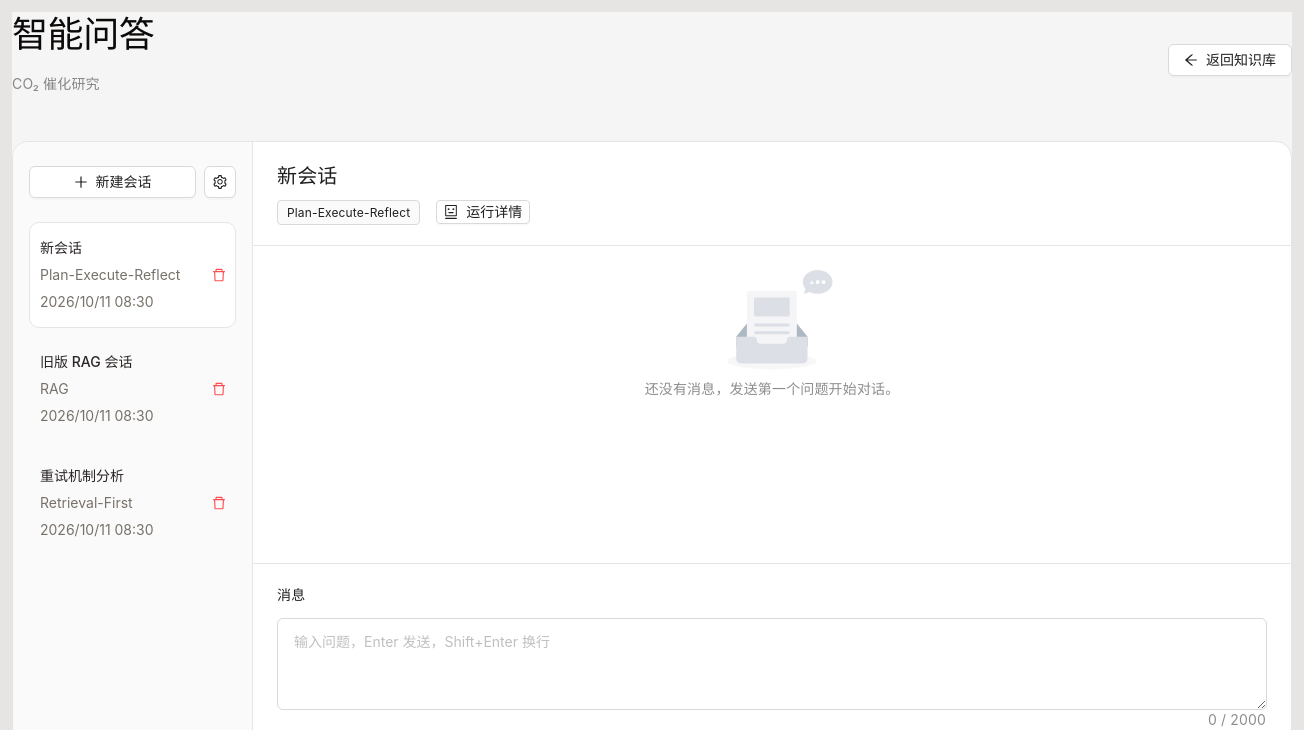
Scenario: ChatPage (MSW integration tests) › honors an initial FAILED execution response instead of assuming it is PENDING
The width and height of the screenshot is (1304, 730).
Type "问题" into the text box labelled "消息" at (772, 664), box x1=278 y1=619 x2=1266 y2=709
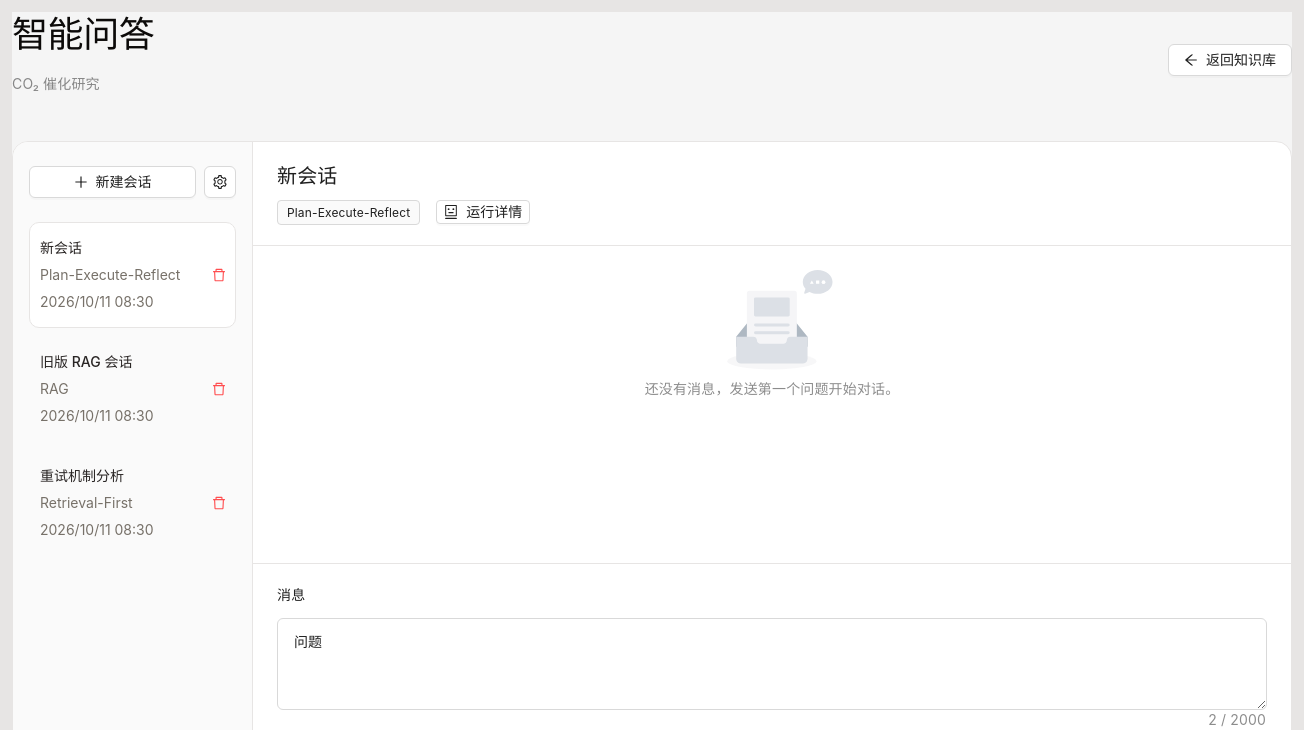
Press Enter in the text box labelled "消息", box x1=278 y1=619 x2=1266 y2=709
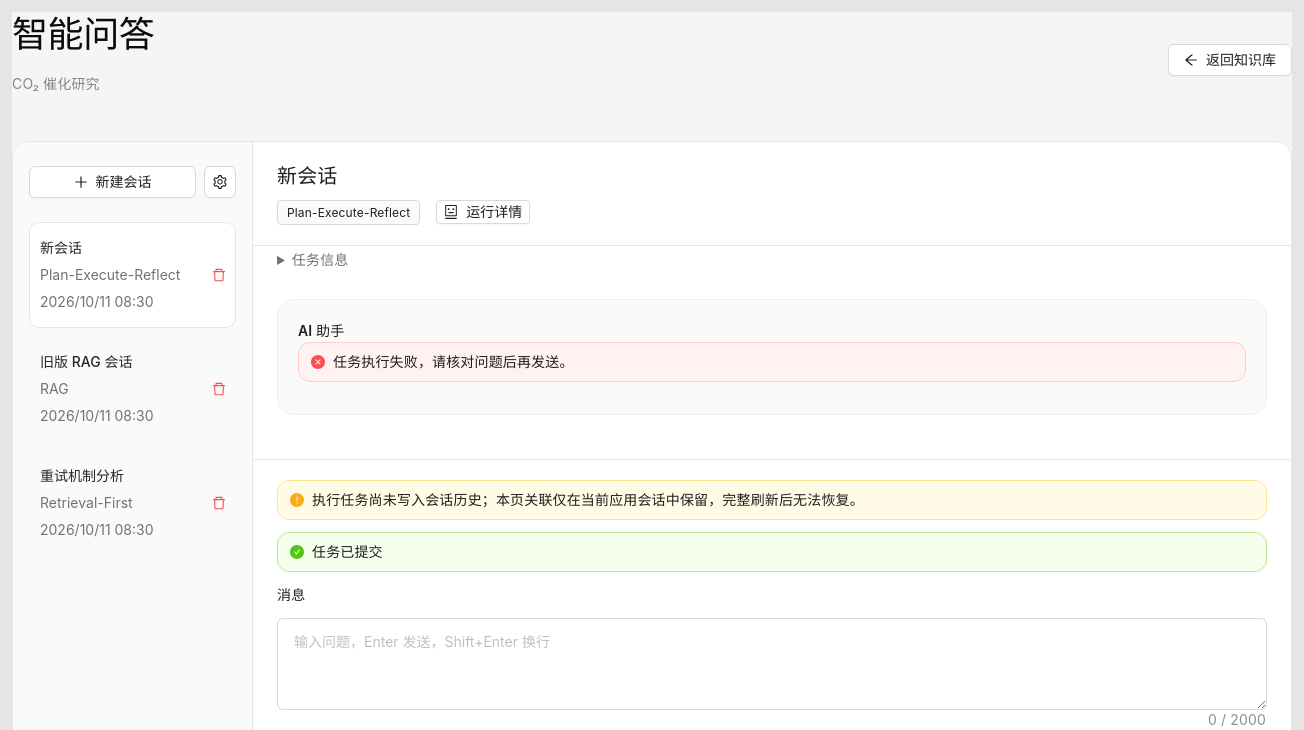
Check: the element named "Agent 执行回复" is shown, box x1=277 y1=246 x2=1267 y2=415
Check: the text "任务执行失败，请核对问题后再发送。" is shown, box x1=333 y1=353 x2=574 y2=370
